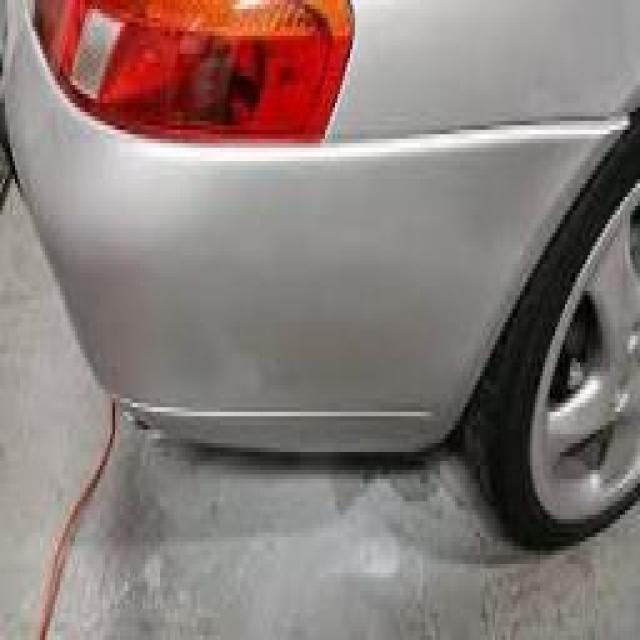Bumper: (145, 262, 351, 426)
Fender: (524, 66, 640, 183)
